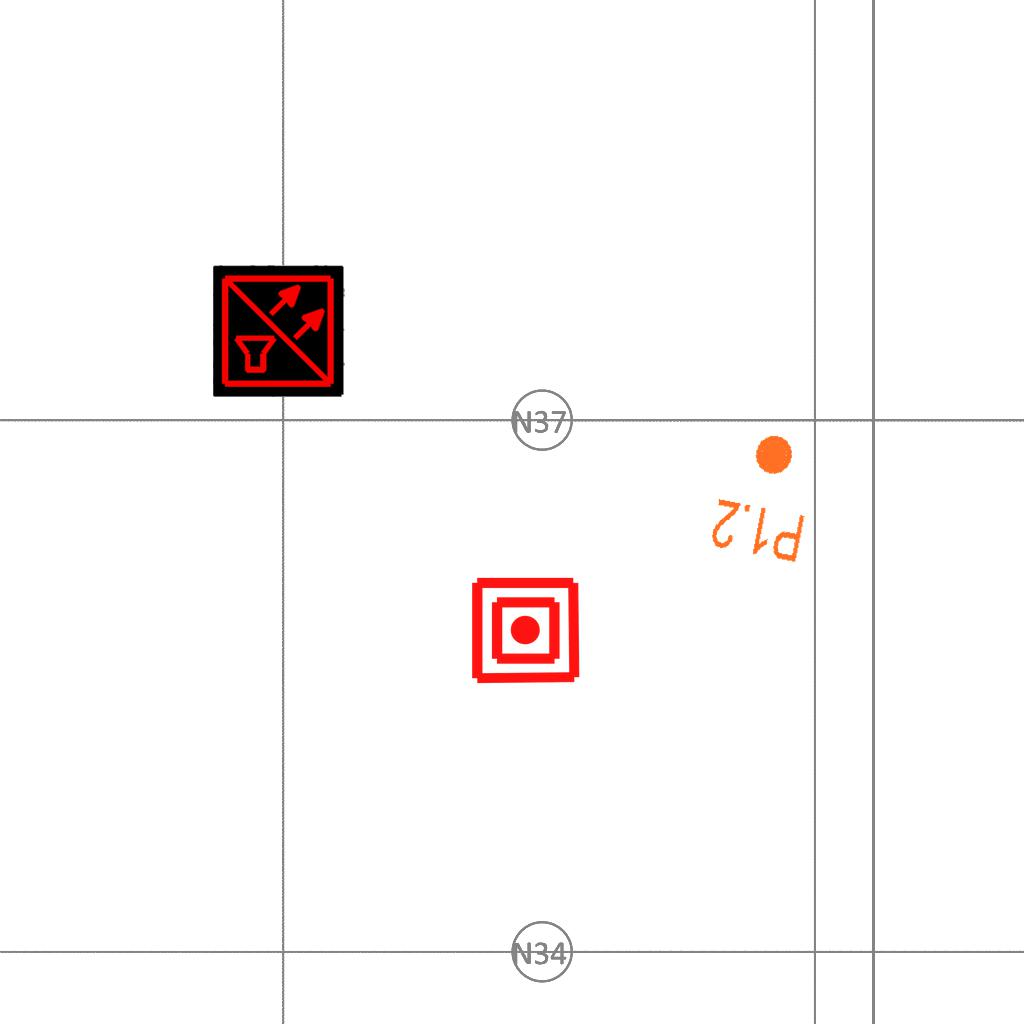Downlight_LED_Einbauleuchten_Flur: (706, 423, 823, 567)
NAM-Nichtautomatischer_Melder: (469, 574, 582, 687)
OKW_Multisensormelder_(Kombination_optischer_Rauch-Kahlenmonoxid_Waerme-Melder): (213, 265, 345, 397)
